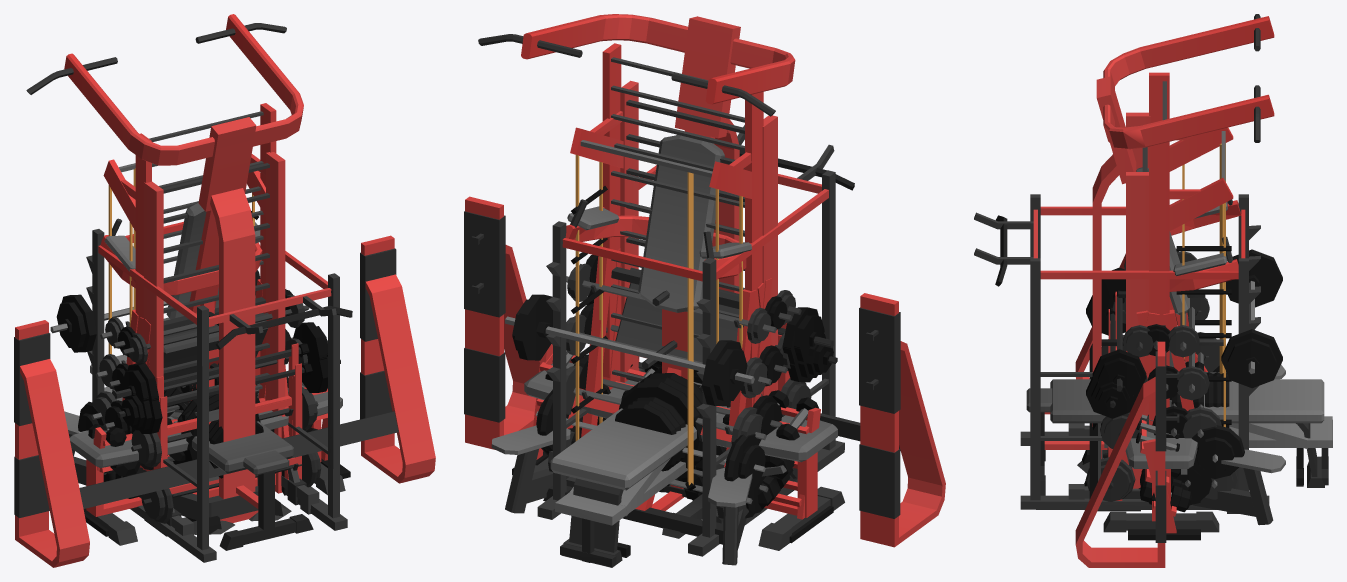
File: Gym_Funiture.fbx
The picture shows the model from 3 angles, left to right: view 1: azimuth 30°, elevation 25°; view 2: azimuth 150°, elevation 25°; view 3: azimuth 270°, elevation 25°; orthographic projection. The views are drawn at different scales.
Parts seen in each view (by area): view 1: gym_Funiture_010, gym_Funiture_006, gym_Funiture_012, gym_Funiture_014, gym_Funiture_005, gym_Funiture_018, gym_Funiture_009, gym_Funiture_016, gym_Funiture_013, gym_Funiture_008, gym_Funiture_003, gym_Funiture_002 (+2 smaller); view 2: gym_Funiture_010, gym_Funiture_006, gym_Funiture_012, gym_Funiture_014, gym_Funiture_013, gym_Funiture_005, gym_Funiture_018, gym_Funiture_009, gym_Funiture_004, gym_Funiture_002, gym_Funiture_008, gym_Funiture_016 (+2 smaller); view 3: gym_Funiture_006, gym_Funiture_012, gym_Funiture_010, gym_Funiture_014, gym_Funiture_005, gym_Funiture_013, gym_Funiture_016, gym_Funiture_018, gym_Funiture_009, gym_Funiture_002, gym_Funiture_008, gym_Funiture_003 (+2 smaller).
Part boxes in pixels (x1,y1,x2,y2): gym_Funiture_010: [14, 235, 435, 567]; gym_Funiture_006: [26, 14, 303, 534]; gym_Funiture_012: [50, 221, 352, 562]; gym_Funiture_014: [103, 152, 285, 493]; gym_Funiture_005: [91, 279, 321, 526]; gym_Funiture_018: [78, 320, 313, 550]; gym_Funiture_009: [69, 385, 345, 545]; gym_Funiture_016: [104, 356, 340, 494]; gym_Funiture_013: [135, 103, 276, 469]; gym_Funiture_008: [103, 289, 319, 535]; gym_Funiture_003: [114, 322, 327, 469]; gym_Funiture_002: [84, 382, 350, 536]; gym_Funiture_010: [464, 196, 945, 567]; gym_Funiture_006: [478, 14, 795, 565]; gym_Funiture_012: [505, 125, 854, 556]; gym_Funiture_014: [570, 80, 777, 490]; gym_Funiture_013: [602, 43, 763, 408]; gym_Funiture_005: [548, 248, 811, 523]; gym_Funiture_018: [536, 282, 765, 544]; gym_Funiture_009: [524, 362, 844, 550]; gym_Funiture_004: [615, 290, 730, 538]; gym_Funiture_002: [512, 344, 833, 543]; gym_Funiture_008: [569, 254, 792, 518]; gym_Funiture_016: [555, 297, 837, 567]; gym_Funiture_006: [1077, 14, 1285, 525]; gym_Funiture_012: [974, 194, 1282, 509]; gym_Funiture_010: [1050, 248, 1324, 567]; gym_Funiture_014: [1126, 112, 1233, 488]; gym_Funiture_005: [1085, 251, 1237, 501]; gym_Funiture_013: [1149, 72, 1169, 425]; gym_Funiture_016: [1086, 288, 1332, 485]; gym_Funiture_018: [1026, 351, 1244, 513]; gym_Funiture_009: [1103, 361, 1219, 532]; gym_Funiture_002: [1128, 414, 1200, 540]; gym_Funiture_008: [1068, 310, 1212, 505]; gym_Funiture_003: [1092, 267, 1307, 485].
Size of the model in its own units: 361 by 388 by 299.
